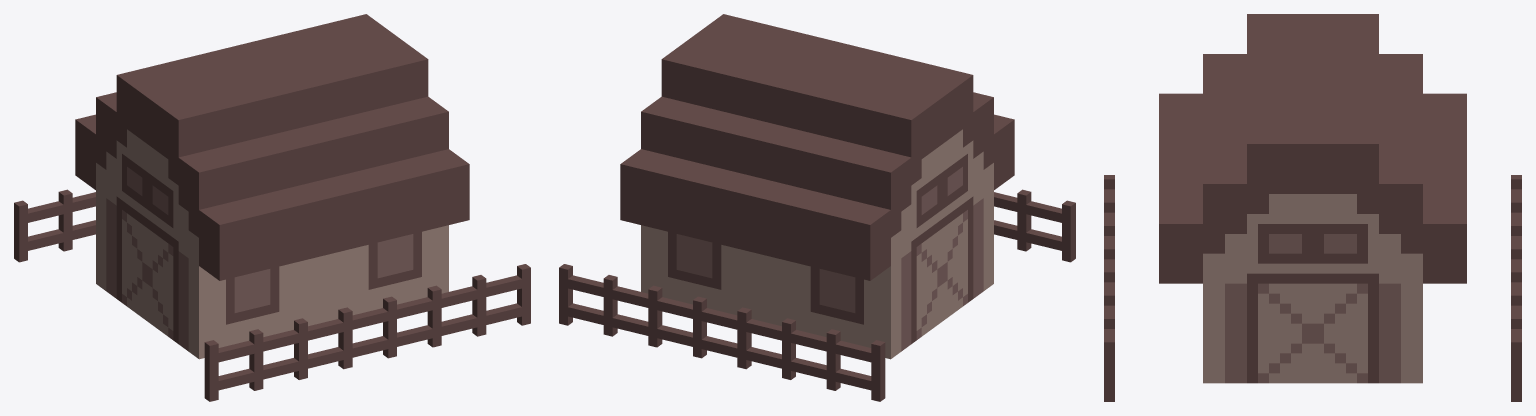
Rendered from prop-barn1.obj.
The picture shows the model from 3 angles, left to right: view 1: azimuth 30°, elevation 25°; view 2: azimuth 150°, elevation 25°; view 3: azimuth 270°, elevation 25°; orthographic projection. The views are drawn at different scales.
Bounding box in the file's own units: 36 × 24 × 38.
1 material, 1 textured.
